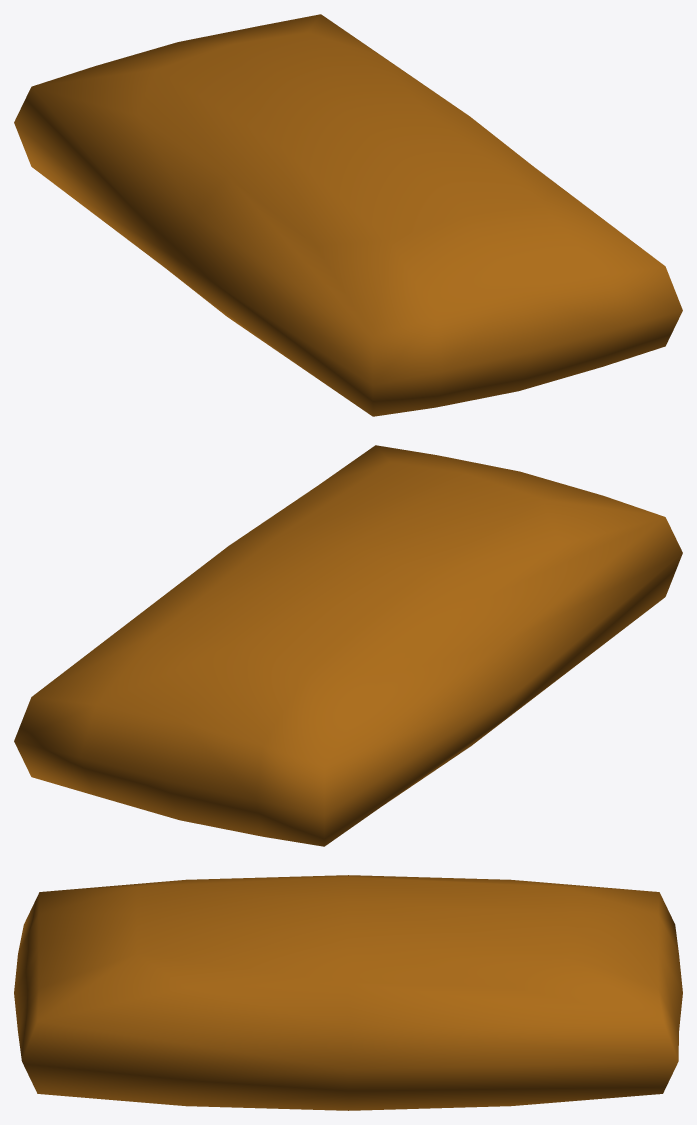
The model's file is Prop_Sandbag.FBX.
3 renders of one model, top to bottom at view 1: azimuth 30°, elevation 25°; view 2: azimuth 150°, elevation 25°; view 3: azimuth 270°, elevation 25°, orthographic. The views are drawn at different scales.
Parts seen in each view (by area): view 1: Sandbag; view 2: Sandbag; view 3: Sandbag.
Boxes of the visible parts, left/top/right/bottom form: Sandbag: left=14, top=14, right=682, bottom=416; Sandbag: left=14, top=445, right=682, bottom=846; Sandbag: left=14, top=875, right=682, bottom=1110.
Size of the model in its own units: 40.17 by 22.15 by 74.47.
